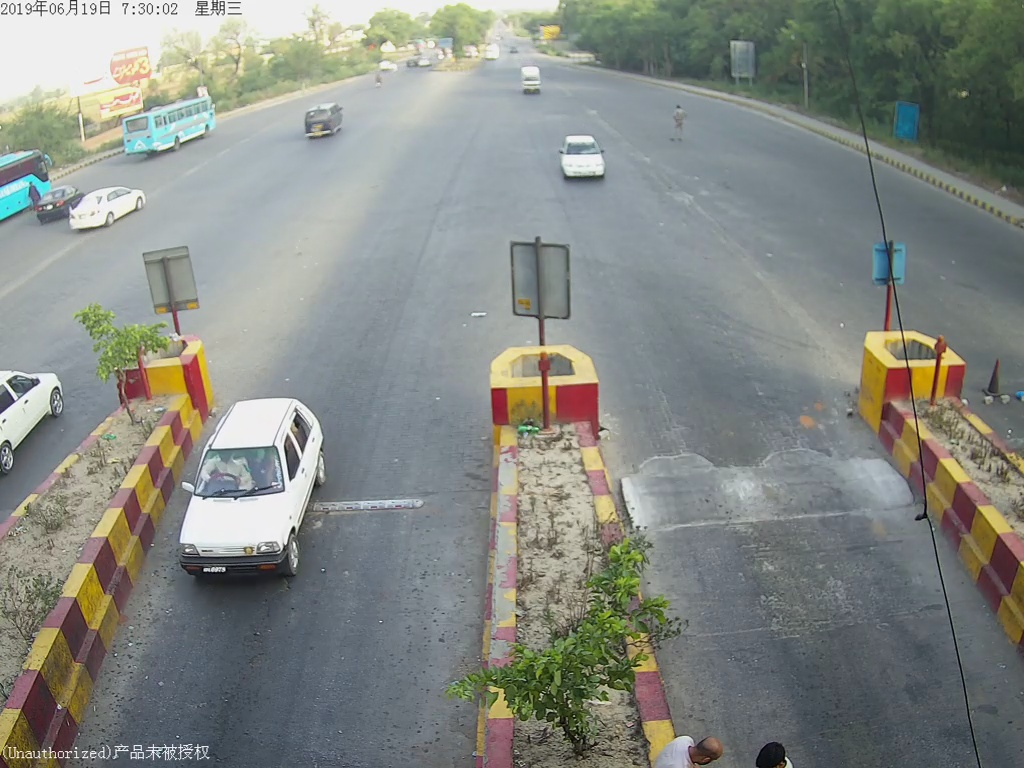Cat-1: (174, 395, 331, 602), (557, 129, 612, 193)
